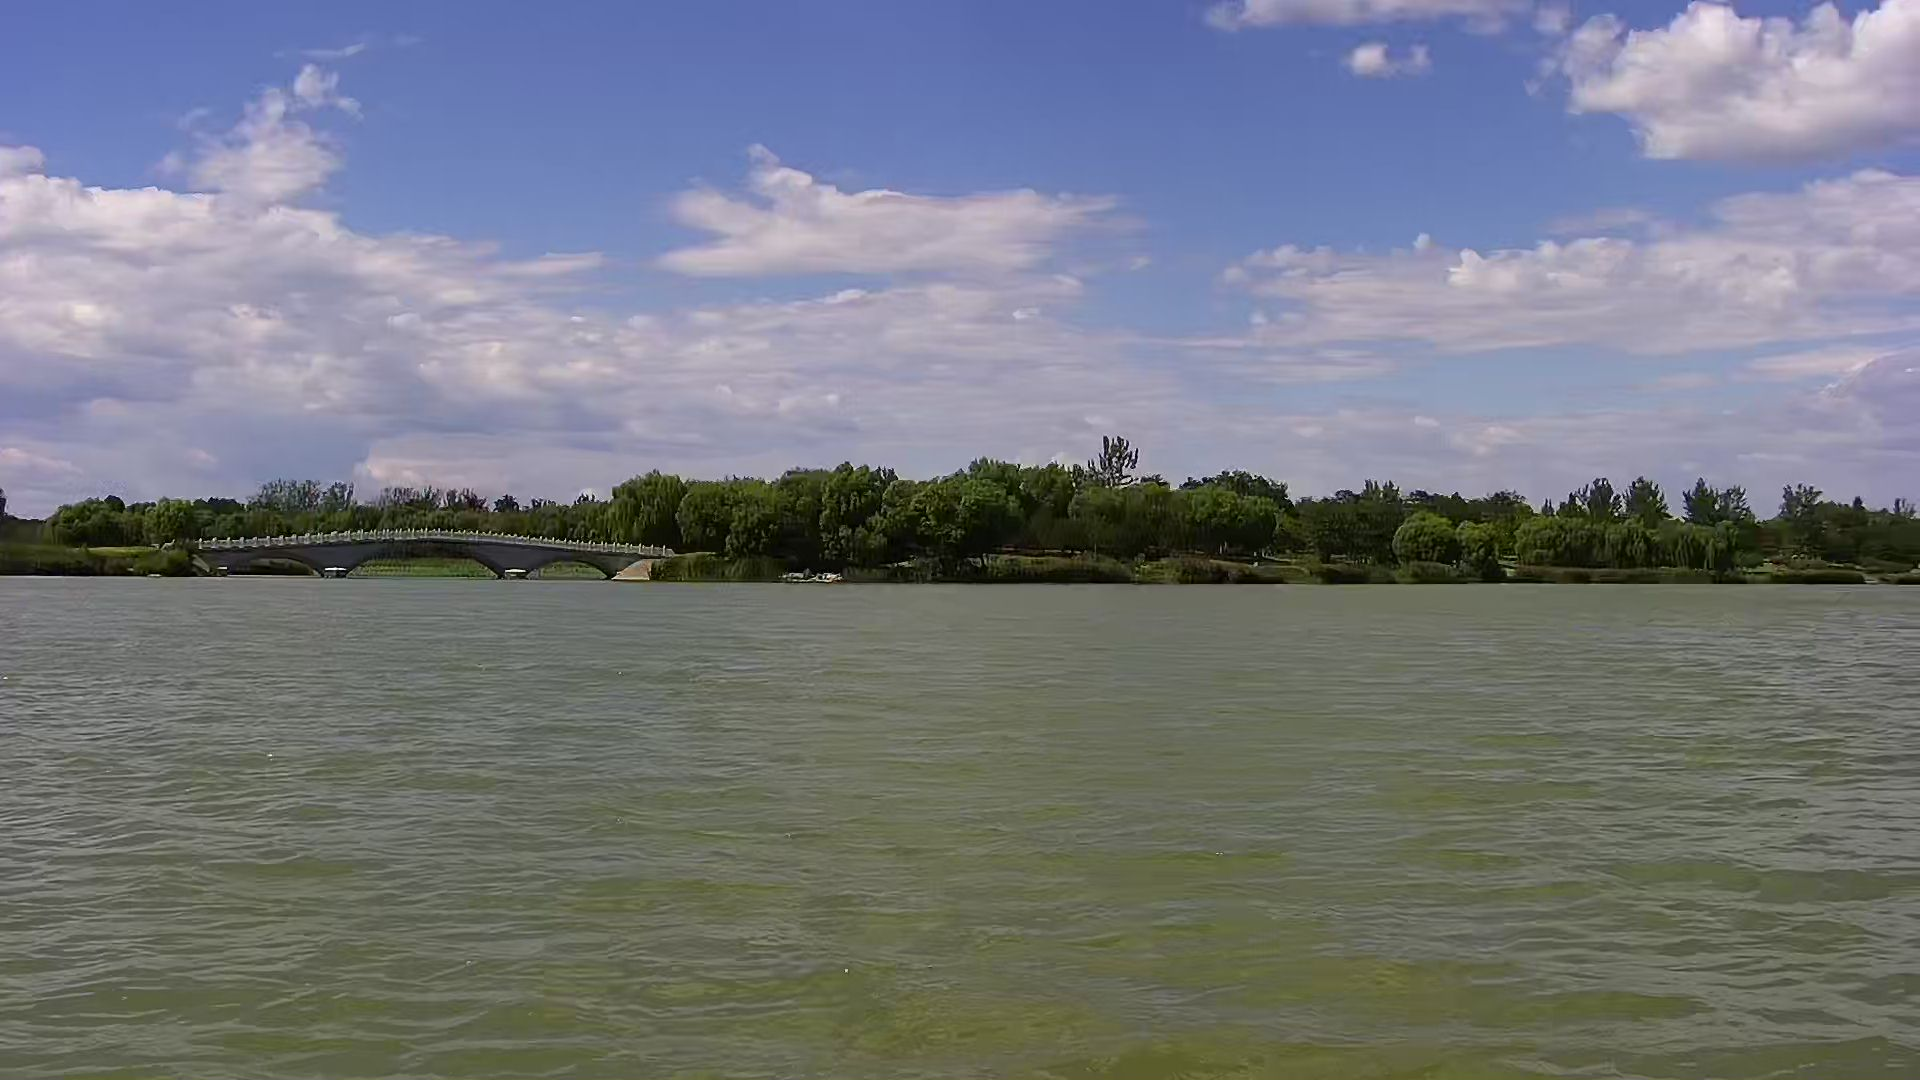bridge: (183, 524, 680, 582)
